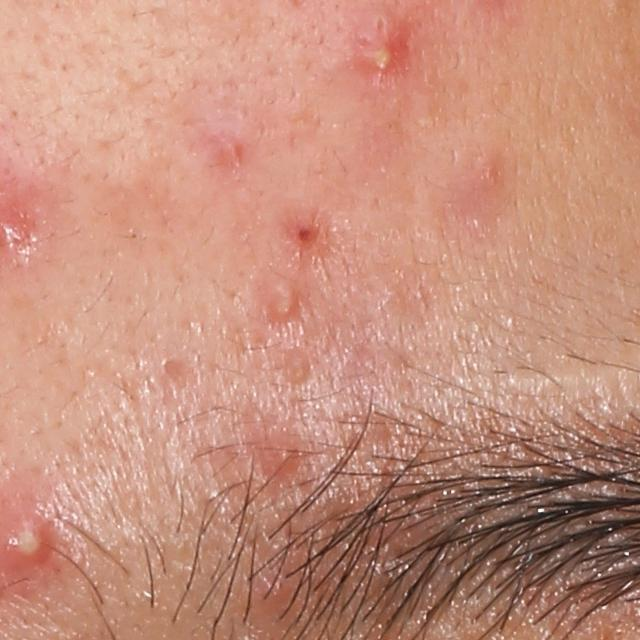comedo: (290, 354, 309, 385)
papule: (461, 148, 513, 202), (246, 560, 292, 618), (268, 440, 304, 478), (270, 278, 295, 322), (216, 133, 244, 169), (292, 219, 320, 251)
pustule: (359, 25, 404, 74)
